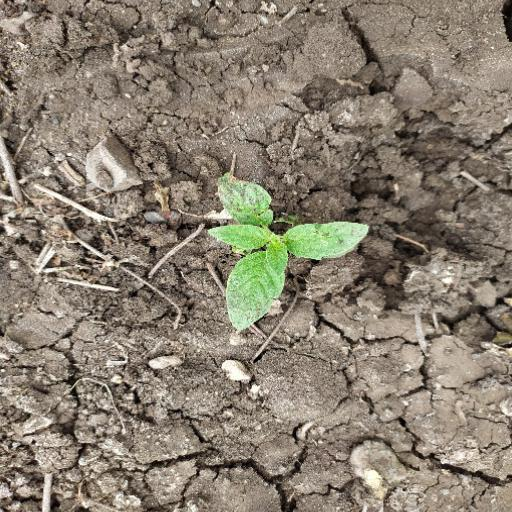crop: (188, 181, 367, 351)
